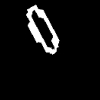chain: (27, 5, 58, 53)
